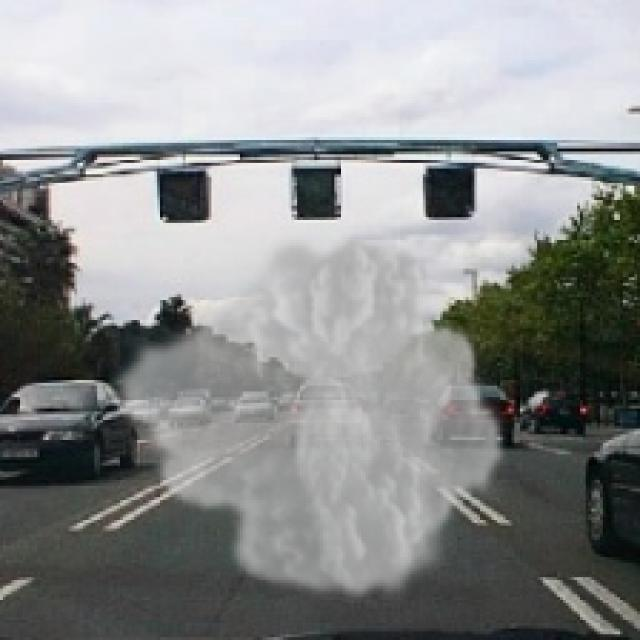smoke: (109, 226, 508, 608)
